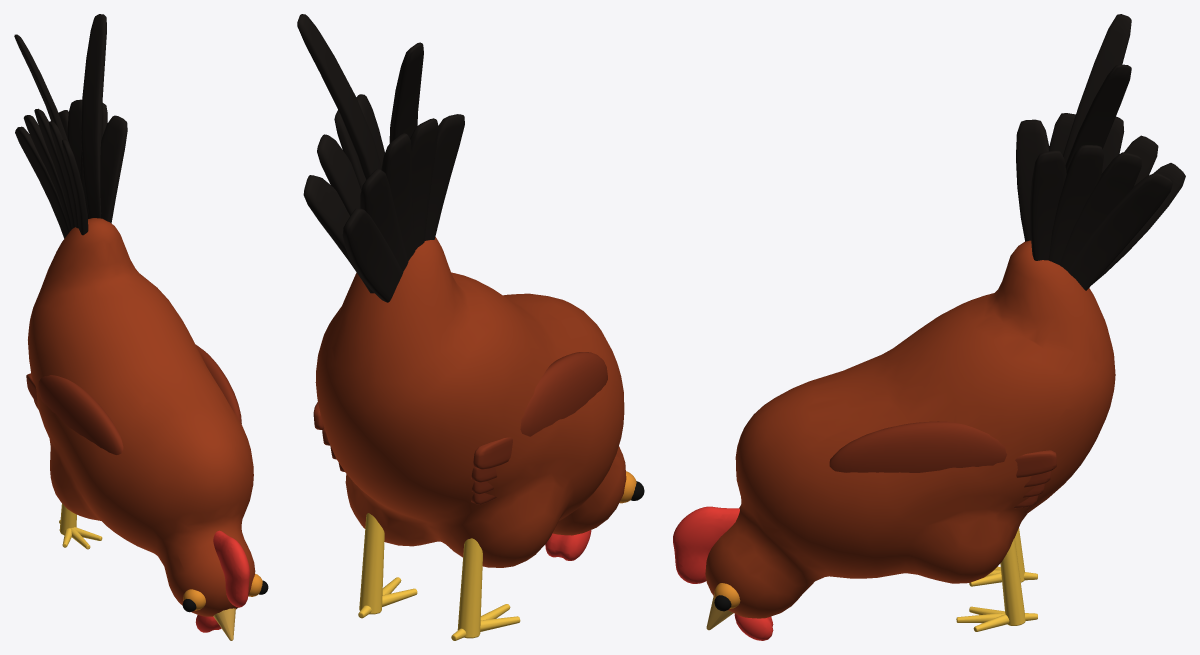
Rendered from rooster_peck.fbx.
The picture shows the model from 3 angles, left to right: view 1: azimuth 30°, elevation 25°; view 2: azimuth 150°, elevation 25°; view 3: azimuth 270°, elevation 25°; orthographic projection. The views are drawn at different scales.
Visible parts, largest first — view 1: rooster_peck; view 2: rooster_peck; view 3: rooster_peck.
Boxes of the visible parts, x1,y1,x2,y2 form: rooster_peck: [14, 14, 268, 640]; rooster_peck: [297, 14, 644, 640]; rooster_peck: [673, 14, 1185, 640].
Bounding box in the file's own units: 0.2611 × 0.8124 × 0.6324.
